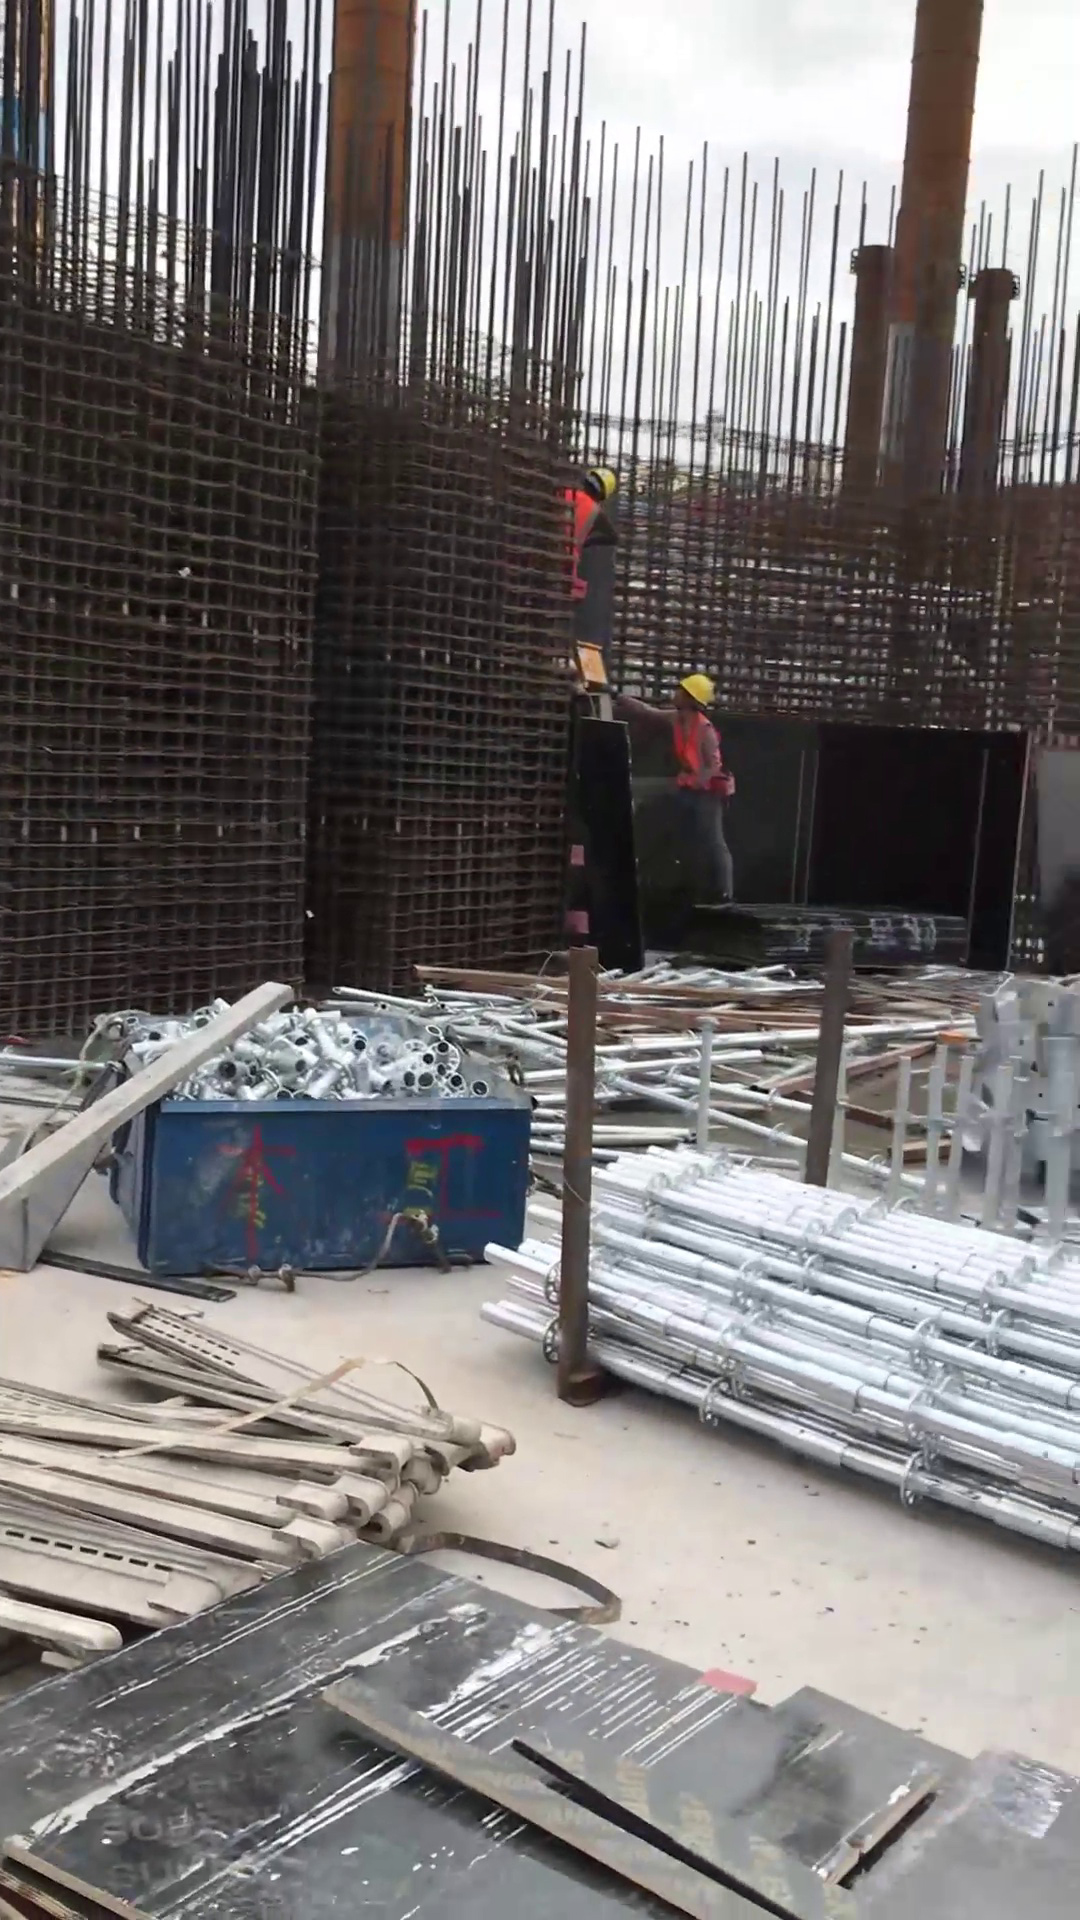board: (9, 1541, 1080, 1911)
helmet: (679, 669, 718, 713), (589, 464, 619, 504)
hopper: (90, 1046, 545, 1287)
person: (585, 668, 749, 913), (549, 458, 630, 619)
scaffold: (497, 1132, 1080, 1569)
vest: (664, 706, 724, 799), (561, 486, 599, 604)
